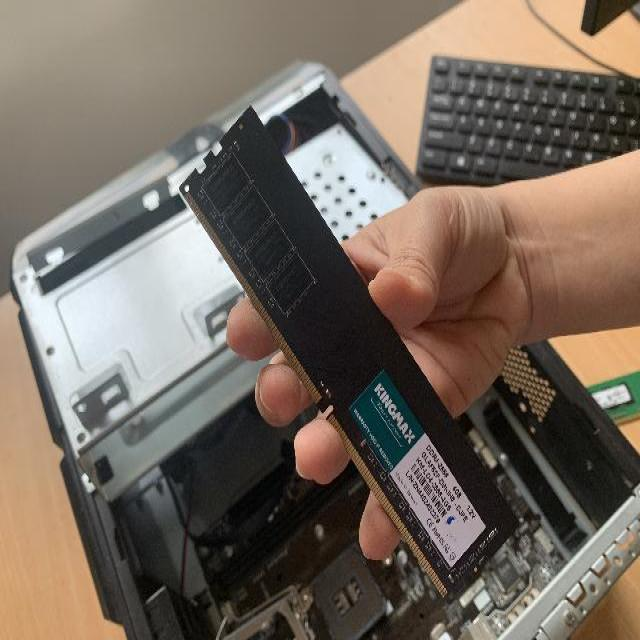RAM: (180, 101, 520, 610)
